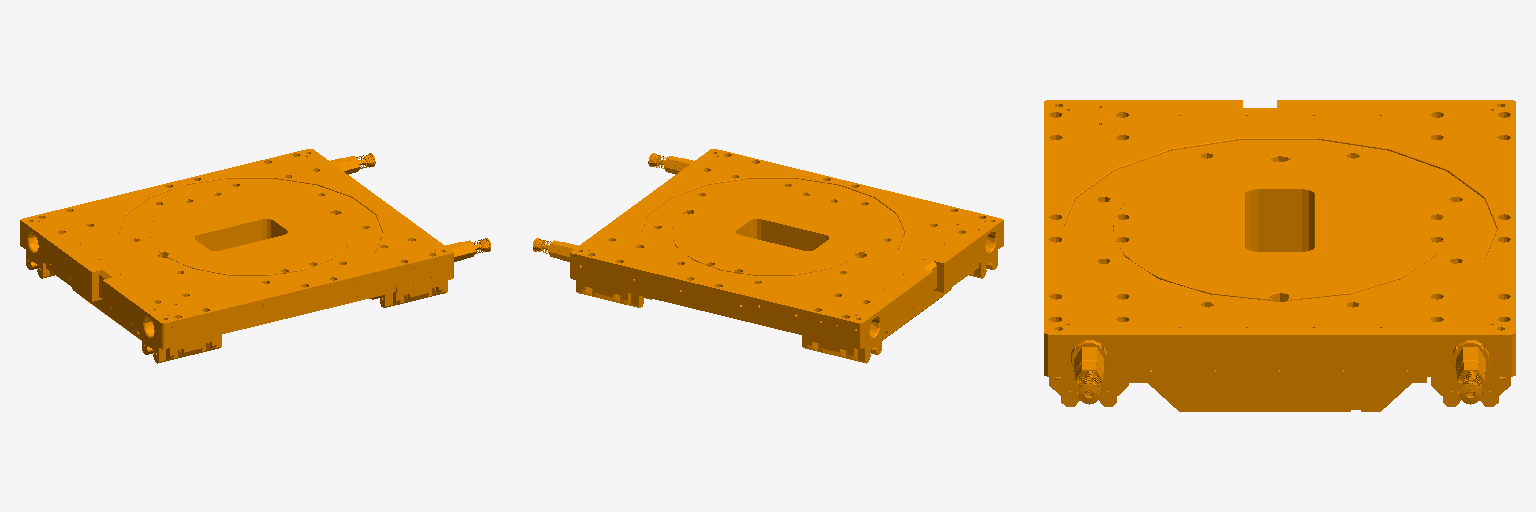
robot.urdf — general purpose station:
<?xml version="1.0" ?>
<robot name="general purpose station" xmlns:xacro="http://ros.org/wiki/xacro">
  <!-- RAL 1028 -->
  <!-- RAL 1018 -->
  <!-- RAL 9016 -->
  <!-- RAL 7043 -->
  <!-- links -->
  <link name="base">
    <visual>
      <origin rpy="0 0 0" xyz="0 0 0"/>
      <geometry>
        <mesh filename="meshes/staeubli_tx200/visual/rail.dae"/>
      </geometry>
      <material name="">
        <color rgba="1.0 0.607843137255 0.0 1.0"/>
      </material>
    </visual>
  </link>
  <link name="xbase">
  </link>
  <link name="ybase">
  </link>
  <link name="platform">
    <visual>
      <origin rpy="0 0 0" xyz="0 0 0"/>
      <geometry>
        <mesh filename="meshes/staeubli_tx200/visual/linear_axis.dae"/>
      </geometry>
      <material name="">
        <color rgba="1.0 0.607843137255 0.0 1.0"/>
      </material>
    </visual>
  </link>
  <link name="tth_arm">
    <visual>
      <origin rpy="0 0 0" xyz="0 0 0"/>
      <geometry>
        <mesh filename="meshes/staeubli_tx200/visual/linear_axis.dae"/>
      </geometry>
      <material name="">
        <color rgba="1.0 0.607843137255 0.0 1.0"/>
      </material>
    </visual>
  </link>
  <link name="th_arm">
    <visual>
      <origin rpy="0 0 0" xyz="0 0 0"/>
      <geometry>
        <mesh filename="meshes/staeubli_tx200/visual/linear_axis.dae"/>
      </geometry>
      <material name="">
        <color rgba="1.0 0.607843137255 0.0 1.0"/>
      </material>
    </visual>
  </link>
  <link name="eta_stage">
    <visual>
      <origin rpy="0 0 0" xyz="0 0 0"/>
      <geometry>
        <mesh filename="meshes/staeubli_tx200/visual/linear_axis.dae"/>
      </geometry>
      <material name="">
        <color rgba="1.0 0.607843137255 0.0 1.0"/>
      </material>
    </visual>
  </link>
  <link name="hexapod">
    <visual>
      <origin rpy="0 0 0" xyz="0 0 0"/>
      <geometry>
        <mesh filename="meshes/staeubli_tx200/visual/linear_axis.dae"/>
      </geometry>
      <material name="">
        <color rgba="1.0 0.607843137255 0.0 1.0"/>
      </material>
    </visual>
  </link>

  <link name="thc">
    <visual>
      <origin rpy="0 0 0" xyz="0 0 0"/>
      <geometry>
        <mesh filename="meshes/staeubli_tx200/visual/linear_axis.dae"/>
      </geometry>
      <material name="">
        <color rgba="1.0 0.607843137255 0.0 1.0"/>
      </material>
    </visual>
  </link>

  <joint name="xbase" type="prismatic">
    <parent link="base"/>
    <child link="xbase"/>
    <origin rpy="0 0. 0" xyz="0 0 0."/>
    <axis xyz="1 0 0"/>
    <limit effort="692.0" lower="-0.2" upper="4." velocity="2."/>
  </joint>
  <joint name="ybase" type="prismatic">
    <parent link="xbase"/>
    <child link="ybase"/>
    <origin rpy="0 0. 0" xyz="0 0 0."/>
    <axis xyz="0 0 1"/>
    <limit effort="692.0" lower="-0.2" upper="4." velocity="2."/>
  </joint>
  <joint name="rzbase" type="revolute">
    <parent link="ybase"/>
    <child link="platform"/>
    <origin rpy="0 0. 0" xyz="0 0 0."/>
    <axis xyz="0 1 0"/>
    <limit effort="692.0" lower="-0.2" upper="4." velocity="2."/>
  </joint>
  <joint name="nu" type="revolute">
    <parent link="platform"/>
    <child link="tth_arm"/>
    <origin rpy="0 0. 0" xyz="0 0 0."/>
    <axis xyz="0 0 1"/>
    <limit effort="692.0" lower="-0.2" upper="4." velocity="2."/>
  </joint>
  <joint name="mu" type="revolute">
    <parent link="platform"/>
    <child link="th_arm"/>
    <origin rpy="0 0. 0" xyz="0 0 0."/>
    <axis xyz="0 0 1"/>
    <limit effort="692.0" lower="-0.2" upper="4." velocity="2."/>
  </joint>
  <joint name="transl_eta" type="prismatic">
    <parent link="th_arm"/>
    <child link="eta_stage"/>
    <origin rpy="0 0. 0" xyz="0 0 0."/>
    <axis xyz="0 1 0"/>
    <limit effort="692.0" lower="-0.2" upper="4." velocity="2."/>
  </joint>
  <joint name="eta" type="revolute">
    <parent link="eta_stage"/>
    <child link="hexapod"/>
    <origin rpy="0 0. 0" xyz="0 0 0."/>
    <axis xyz="0 1 0"/>
    <limit effort="692.0" lower="-0.2" upper="4." velocity="2."/>
  </joint>
  <joint name="thc" type="fixed">
    <parent link="tth_arm"/>
    <child link="thc"/>
    <origin rpy="0 0. 0" xyz="0 0 0."/>
  </joint>
</robot>

--- Facts derived from the render (not from the file) ---
Views: 3 orthographic renders of the robot side by side, from view 1: azimuth 30°, elevation 25°; view 2: azimuth 150°, elevation 25°; view 3: azimuth 270°, elevation 25°.
Model general purpose station with 9 links and 8 joints (4 revolute, 3 prismatic, 1 fixed), rooted at base, posed every joint at zero.
Links seen in each view (by area): view 1: platform; view 2: platform; view 3: platform.
Boxes of the visible links, left/top/right/bottom form: platform: left=20, top=149, right=490, bottom=363; platform: left=533, top=149, right=1003, bottom=363; platform: left=1044, top=100, right=1515, bottom=411.
Size in the robot's own frame: 0.9648 by 0.704 by 0.15 metres.
Meshes: 2 distinct files referenced, 6 mesh visuals loaded (1 Collada DAE); not drawn: 1 (reference not matched to a file when rendering).